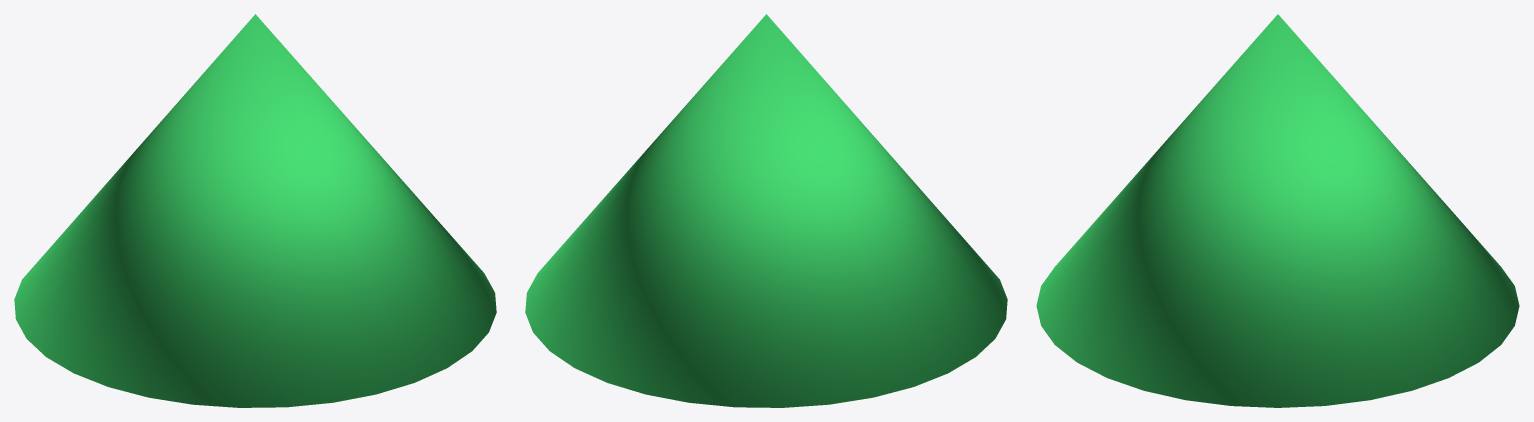
The model's file is dirt.obj.
The picture shows the model from 3 angles, left to right: view 1: azimuth 30°, elevation 25°; view 2: azimuth 150°, elevation 25°; view 3: azimuth 270°, elevation 25°; orthographic projection.
Visible parts, largest first — view 1: Cone.001; view 2: Cone.001; view 3: Cone.001.
Part boxes in pixels (bbox=[...]): Cone.001: bbox=[14, 14, 496, 407]; Cone.001: bbox=[525, 14, 1007, 407]; Cone.001: bbox=[1036, 14, 1519, 407].
Bounding box in the file's own units: 6 × 4 × 6.
1 material, 1 textured.
